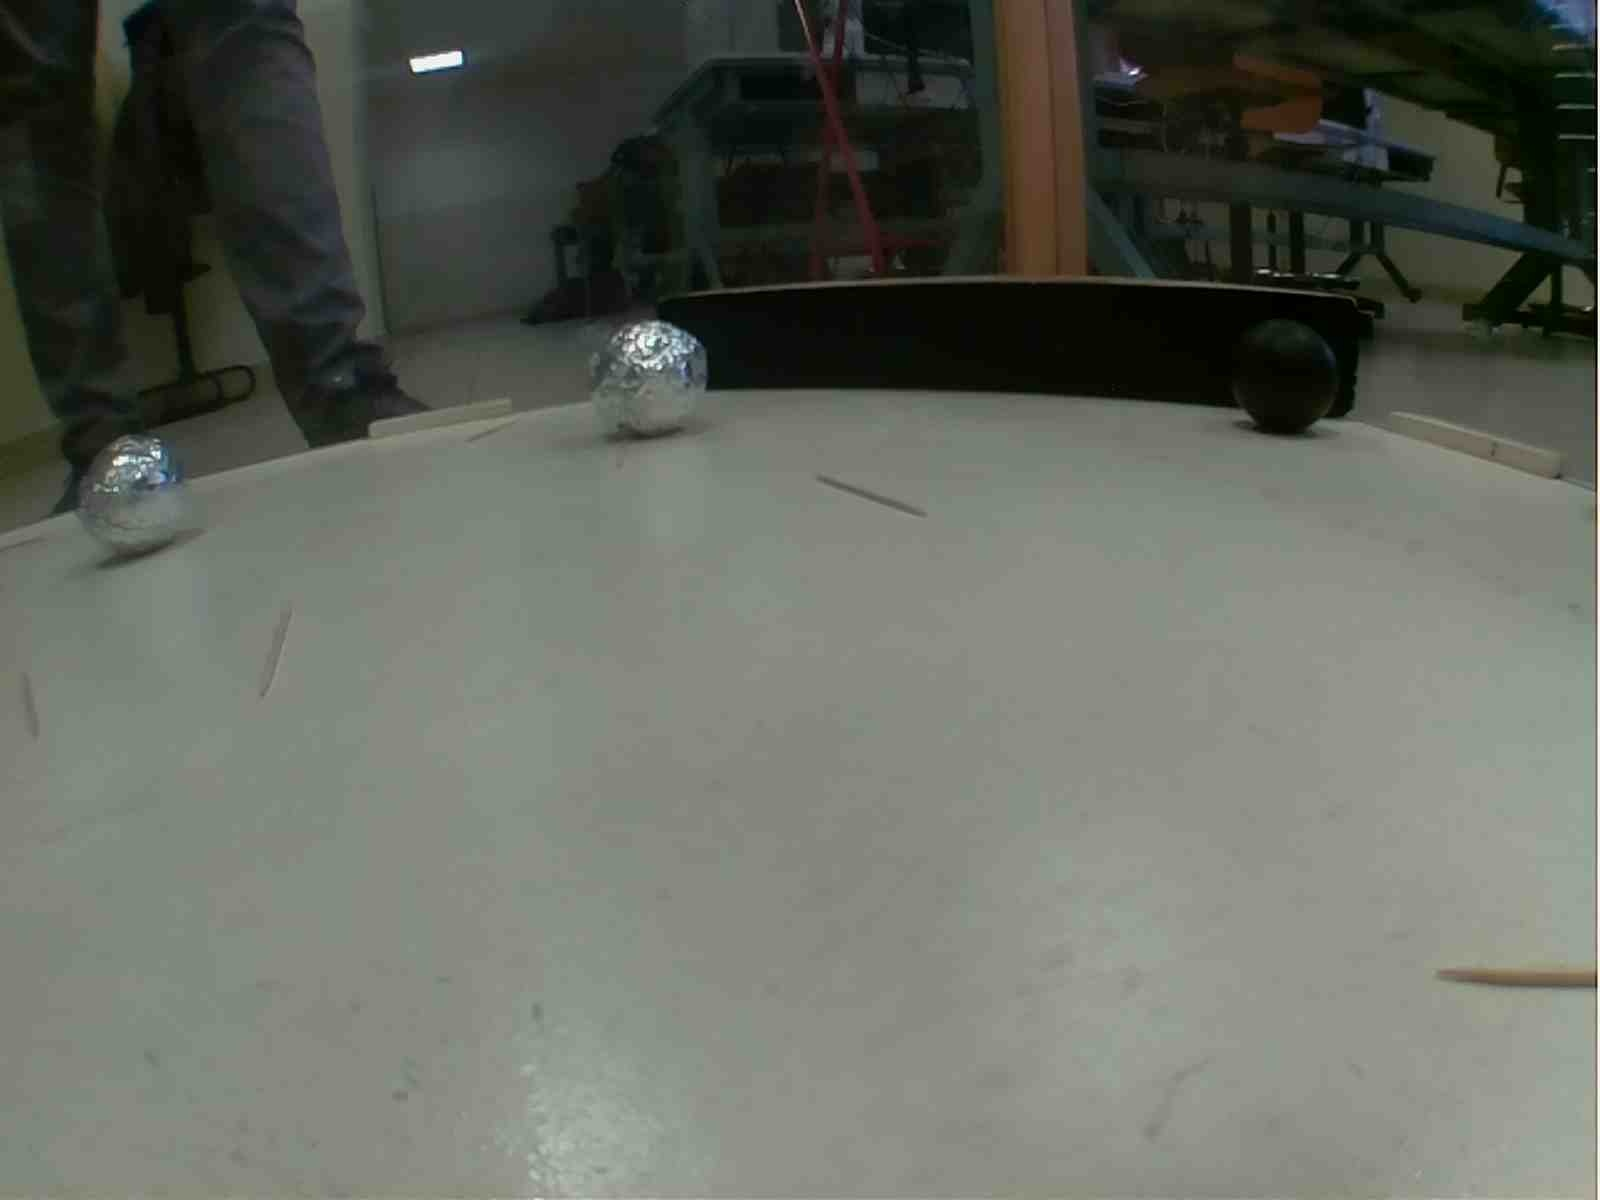bianca: (587, 316, 711, 439), (83, 431, 194, 563)
nera: (1225, 321, 1342, 437)
